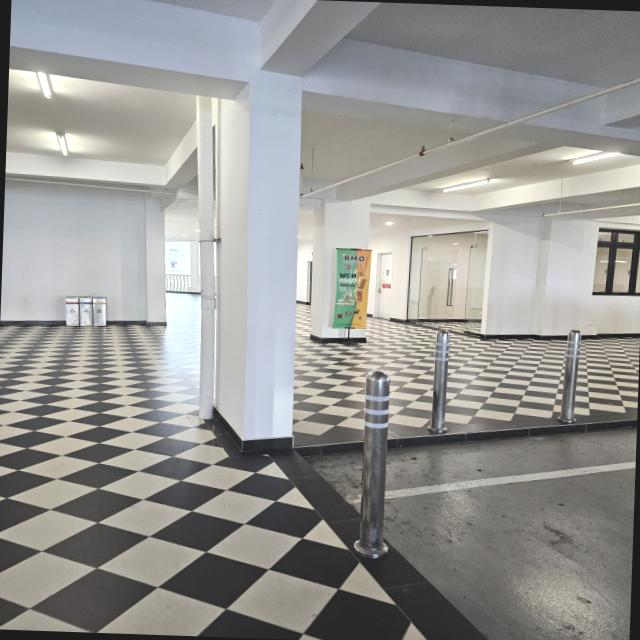footpath: (0, 354, 190, 635)
obstacle: (352, 368, 408, 556), (312, 244, 371, 344), (422, 330, 460, 434), (551, 326, 585, 424), (57, 290, 112, 330)
wall: (190, 84, 316, 453)
